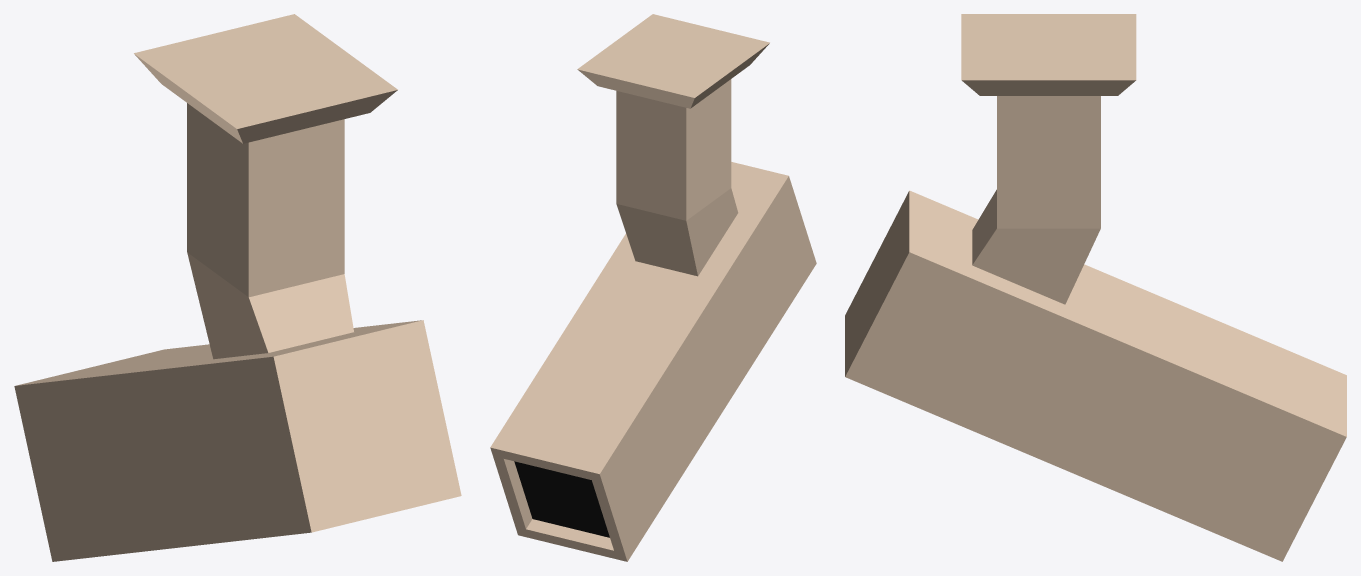
File: cctv.glb
The picture shows the model from 3 angles, left to right: view 1: azimuth 30°, elevation 25°; view 2: azimuth 150°, elevation 25°; view 3: azimuth 270°, elevation 25°; orthographic projection. The views are drawn at different scales.
Visible parts, largest first — view 1: CCTV, Stand; view 2: CCTV, Stand; view 3: CCTV, Stand.
Boxes of the visible parts, box(x1,y1,x2,y2) form: CCTV: box(14, 252, 461, 561); Stand: box(134, 14, 397, 297); CCTV: box(490, 162, 816, 561); Stand: box(577, 14, 769, 220); CCTV: box(845, 189, 1346, 561); Stand: box(961, 14, 1136, 228).
Bounding box in the file's own units: 0.3017 × 1.03 × 0.9638.
